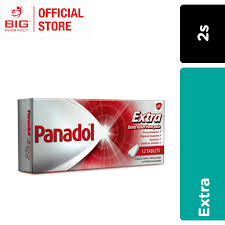Panadol Extra: (33, 110, 161, 145)
